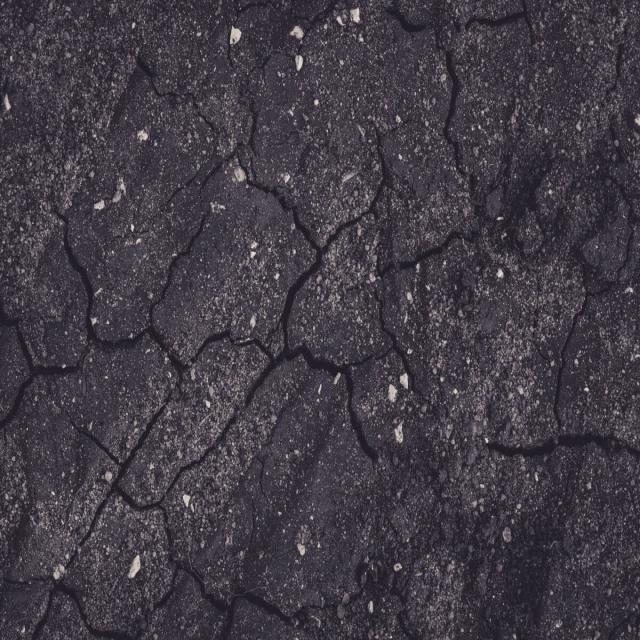Drain Hole: (7, 19, 636, 607)
